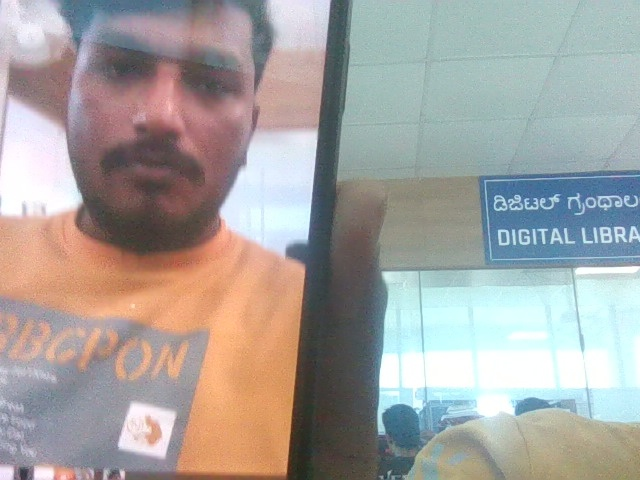fake: (35, 0, 295, 368)
